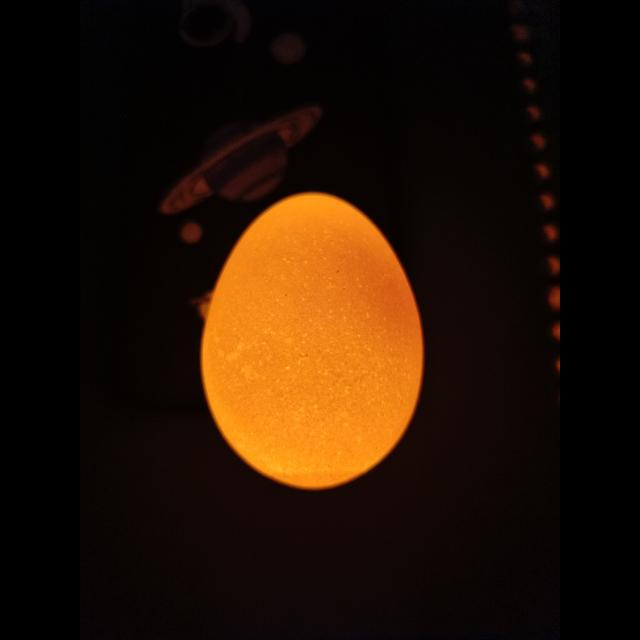AA - Premium: (201, 193, 424, 489), (336, 306, 338, 308)
